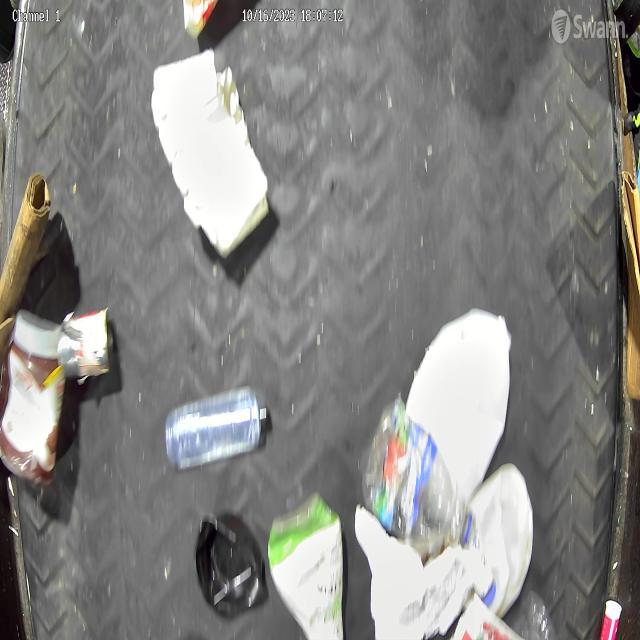can: (56, 313, 112, 381)
milk_jug: (412, 312, 514, 482)
plastic_bottle: (363, 402, 477, 549), (164, 387, 274, 469)
